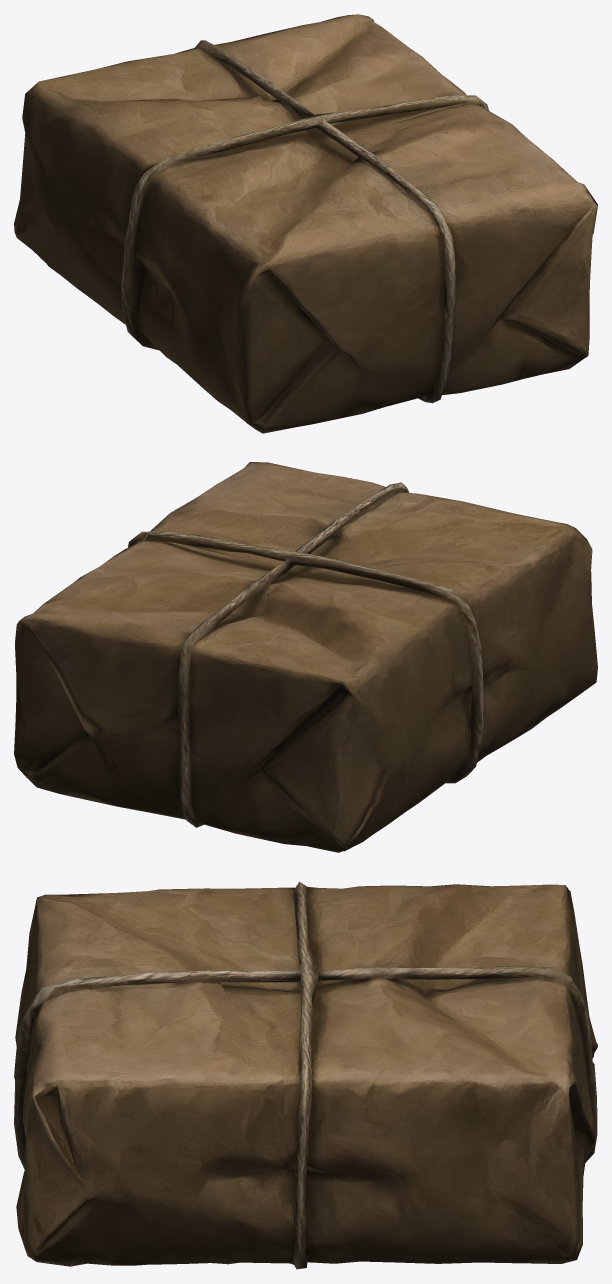
File: parcel_wrapped_large.glb
The picture shows the model from 3 angles, top to bottom: view 1: azimuth 30°, elevation 25°; view 2: azimuth 150°, elevation 25°; view 3: azimuth 270°, elevation 25°; orthographic projection. The views are drawn at different scales.
Parts seen in each view (by area): view 1: tripo_node_d5f40268-7989-497b-9914-1c50c9235ca4; view 2: tripo_node_d5f40268-7989-497b-9914-1c50c9235ca4; view 3: tripo_node_d5f40268-7989-497b-9914-1c50c9235ca4.
Part boxes in pixels (x1,y1,x2,y2): tripo_node_d5f40268-7989-497b-9914-1c50c9235ca4: (14,14,597,433); tripo_node_d5f40268-7989-497b-9914-1c50c9235ca4: (14,462,597,852); tripo_node_d5f40268-7989-497b-9914-1c50c9235ca4: (14,881,597,1269).
Bounding box in the file's own units: 0.8222 × 0.4481 × 1.
1 material, 1 textured.
